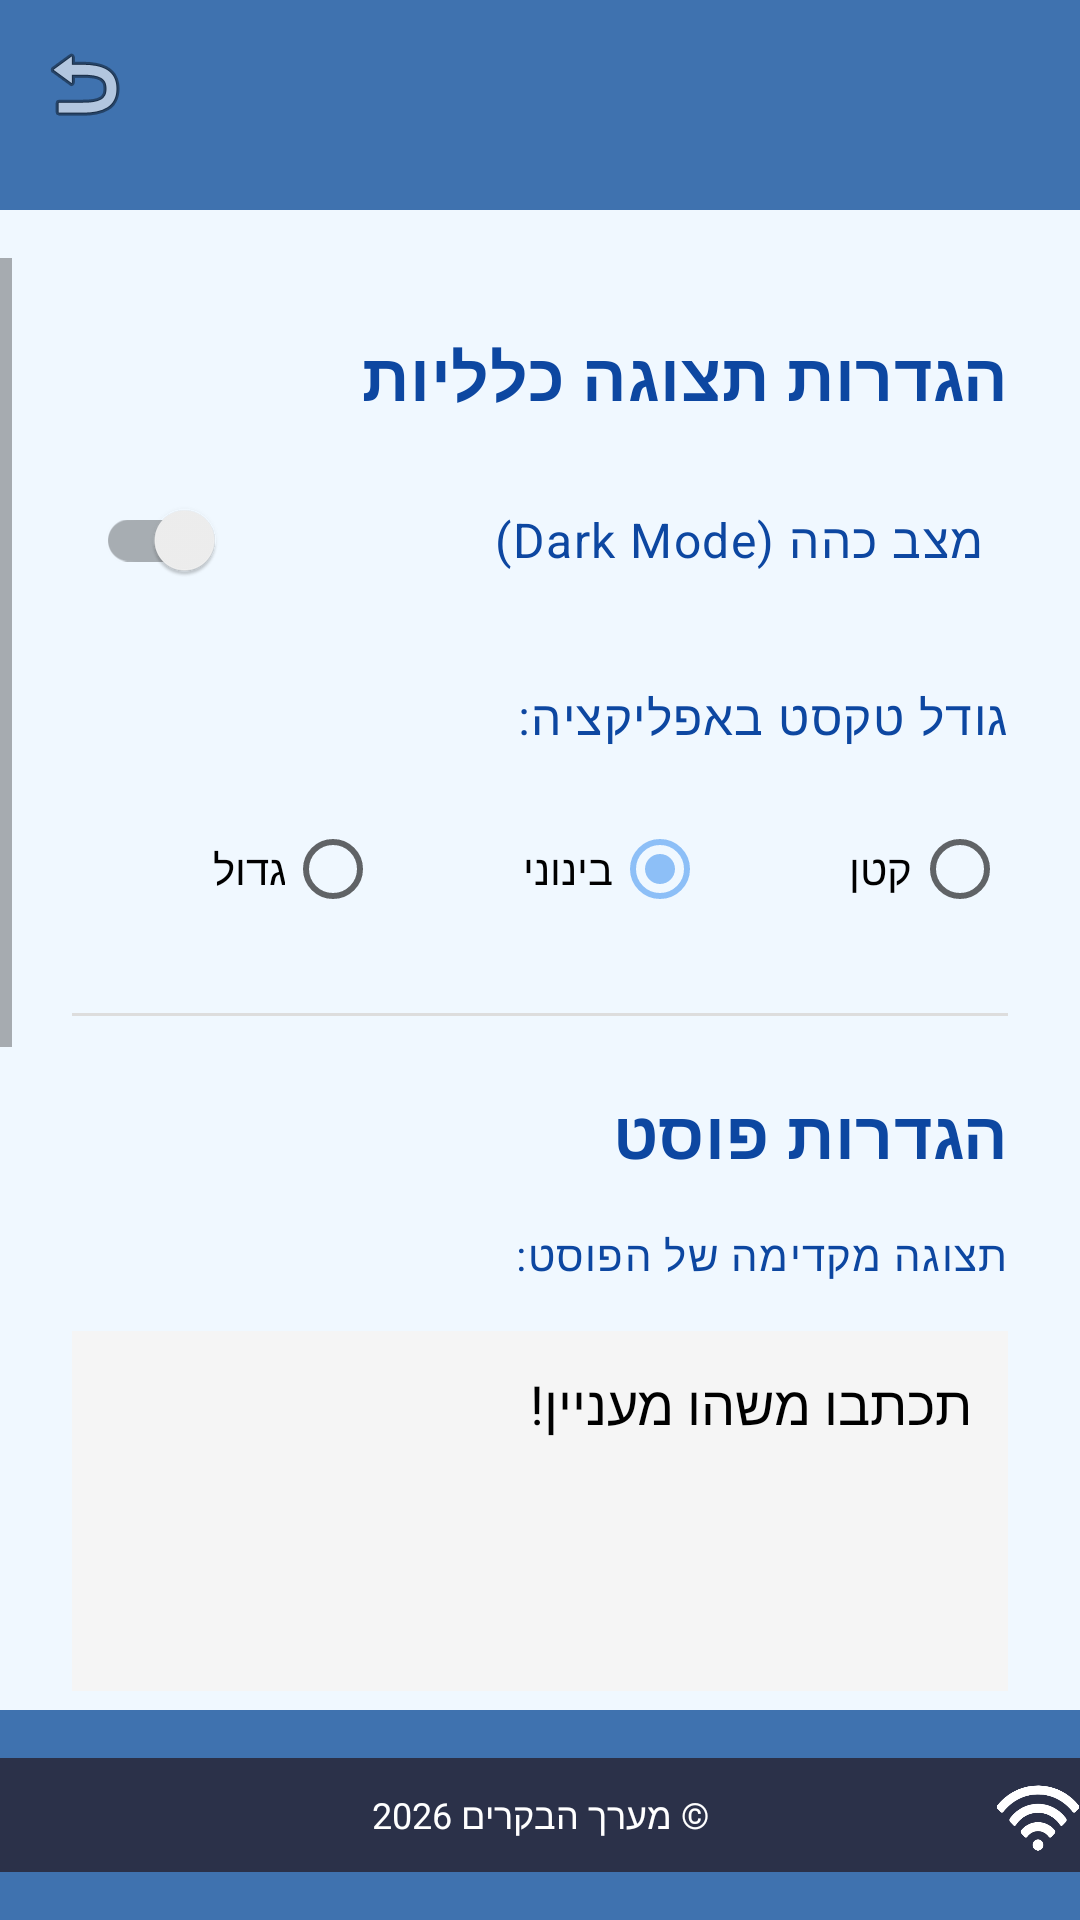

Where to tap for icons on this 1080 x 1920 app screen, as point (x, y):
wifi: point (1038, 1818)
